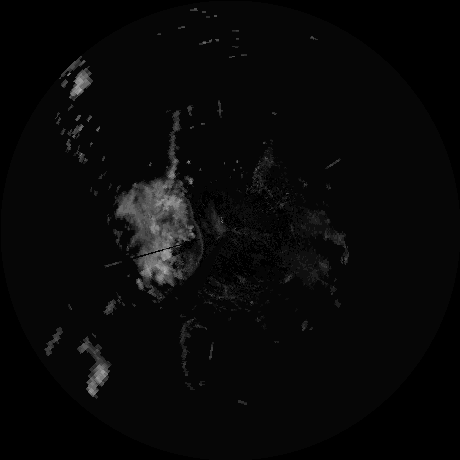frontgust: (187, 202, 204, 270), (178, 320, 196, 382), (168, 110, 181, 182)
